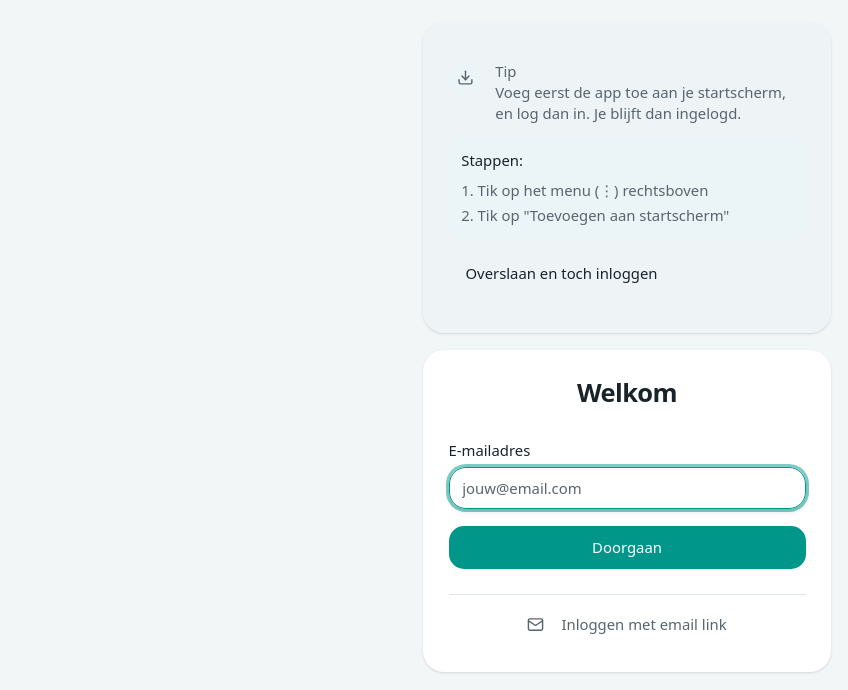
Test: LoginPage › form validation › submits valid email and proceeds to password step
This screenshot has width=848, height=690.
Type "test@example.com" into the field labelled "E-mailadres" at (627, 488), box [448,466,806,509]
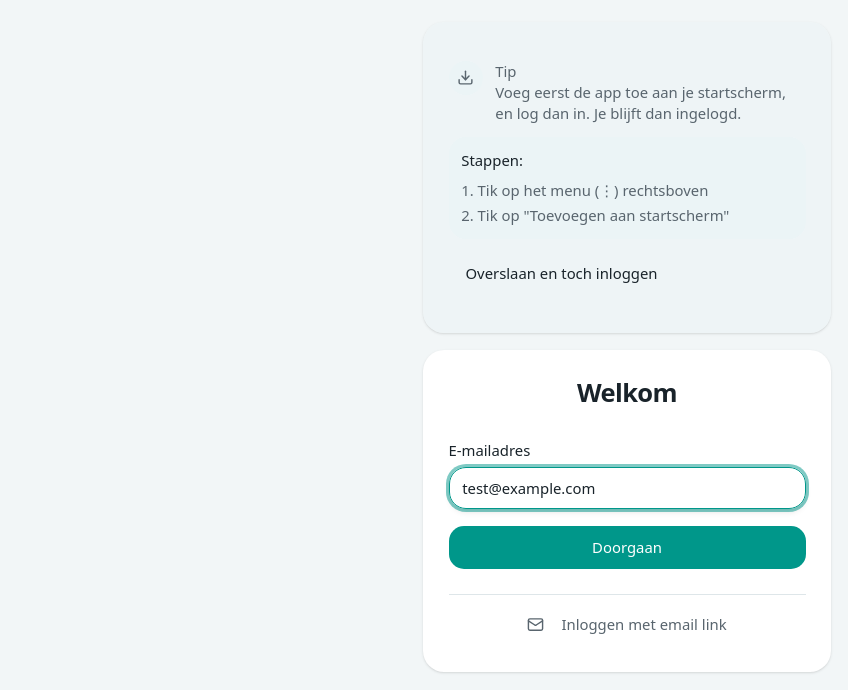
Click the button "Doorgaan" at (627, 547), box [448,526,806,568]
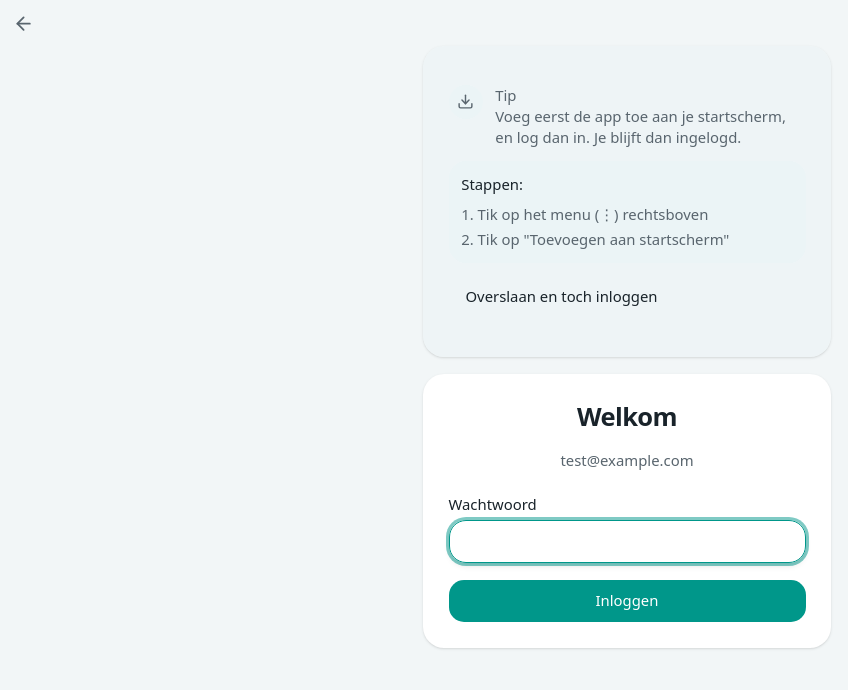
Expected: the password field labelled "Wachtwoord" is shown, [448,520,806,563]
